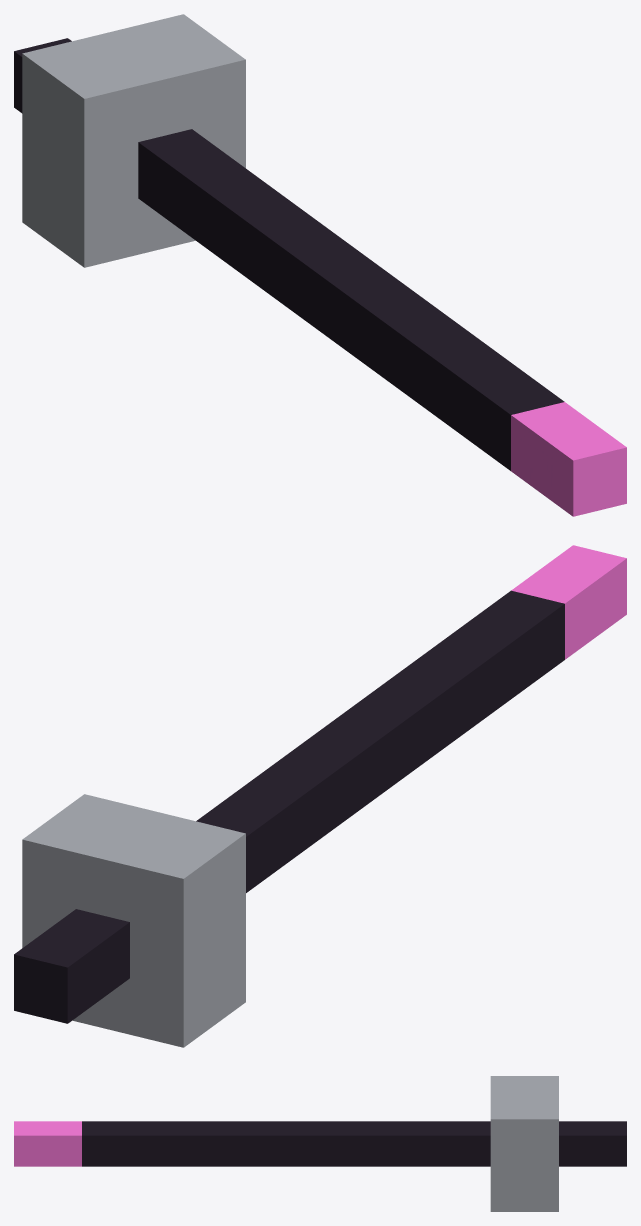
File: vox_wand_hex.glb
The picture shows the model from 3 angles, top to bottom: view 1: azimuth 30°, elevation 25°; view 2: azimuth 150°, elevation 25°; view 3: azimuth 270°, elevation 25°; orthographic projection. The views are drawn at different scales.
Visible parts, largest first — view 1: vox_wand_hex; view 2: vox_wand_hex; view 3: vox_wand_hex.
Part boxes in pixels (x1,y1,x2,y2): vox_wand_hex: (14, 14, 626, 516); vox_wand_hex: (14, 545, 626, 1047); vox_wand_hex: (14, 1076, 626, 1211).
Bounding box in the file's own units: 0.06 × 0.06 × 0.36.
